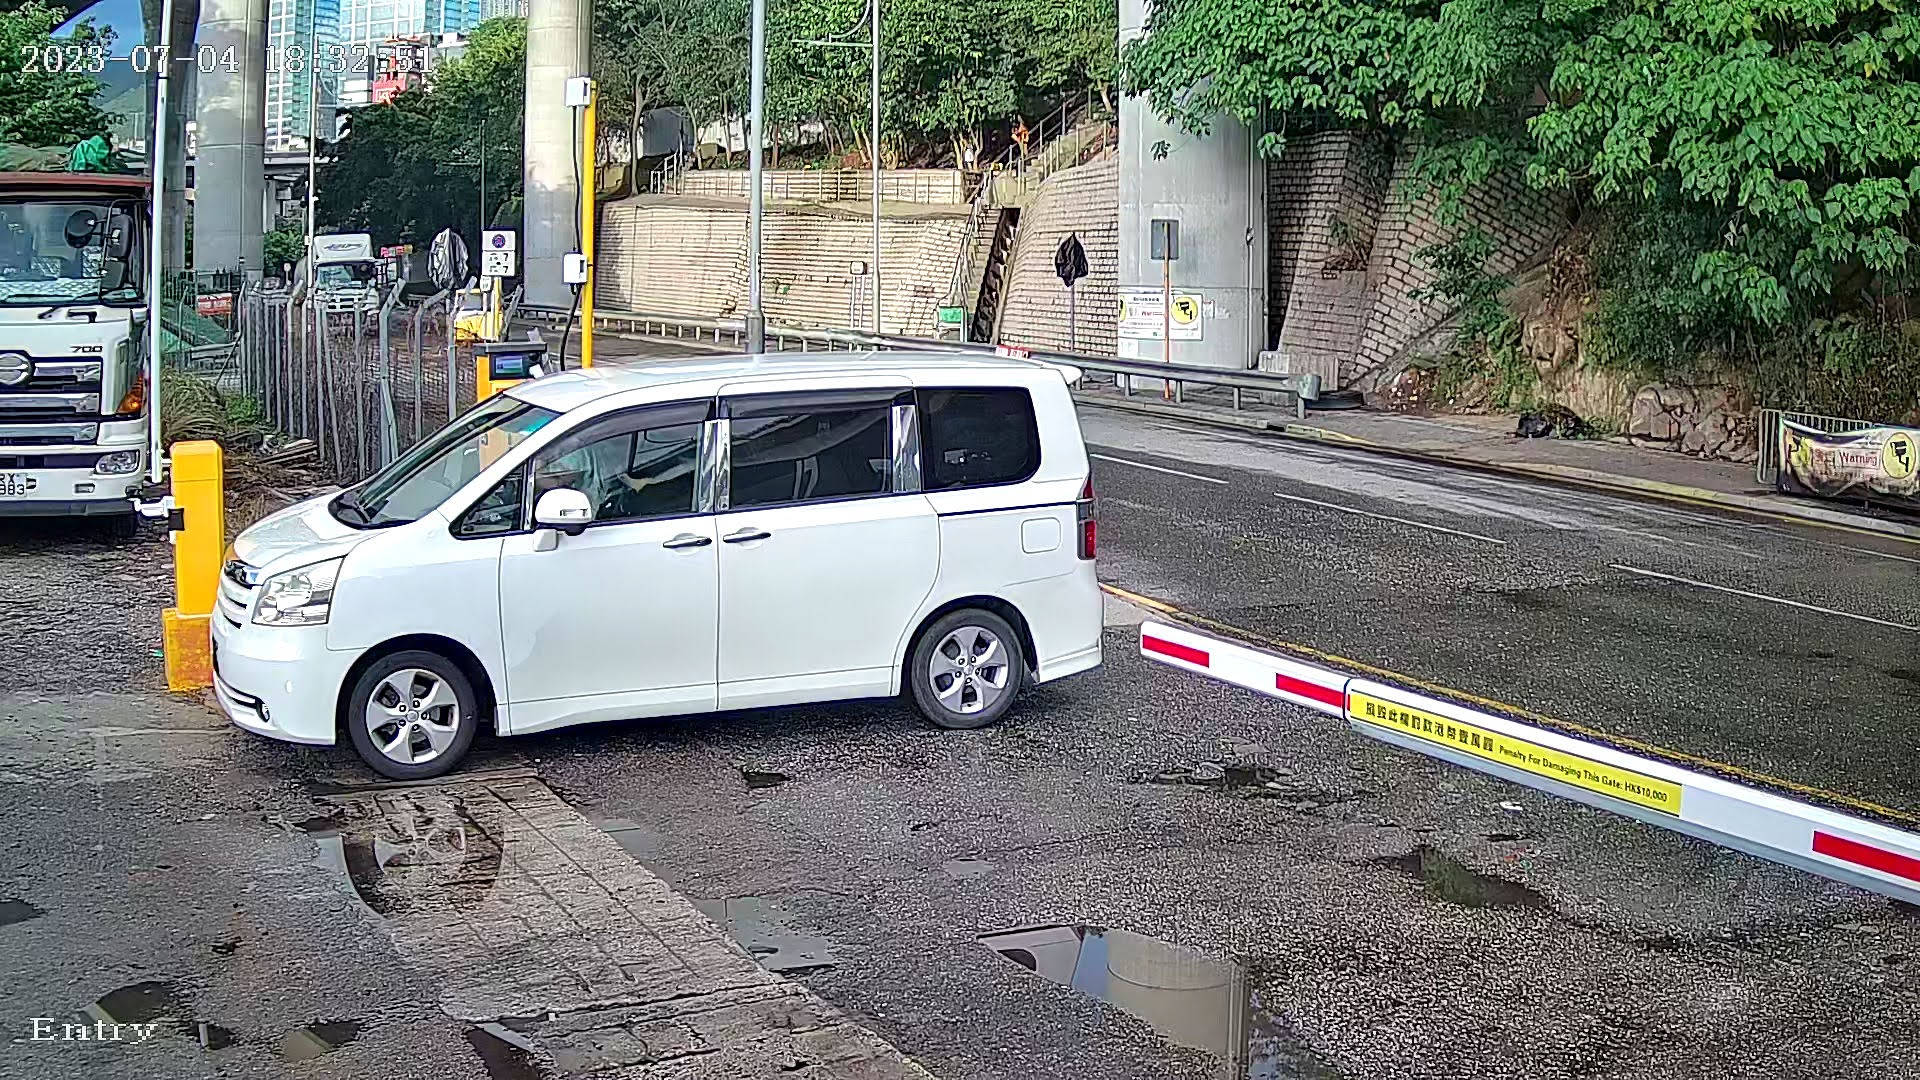privatecar: (161, 295, 1153, 796)
